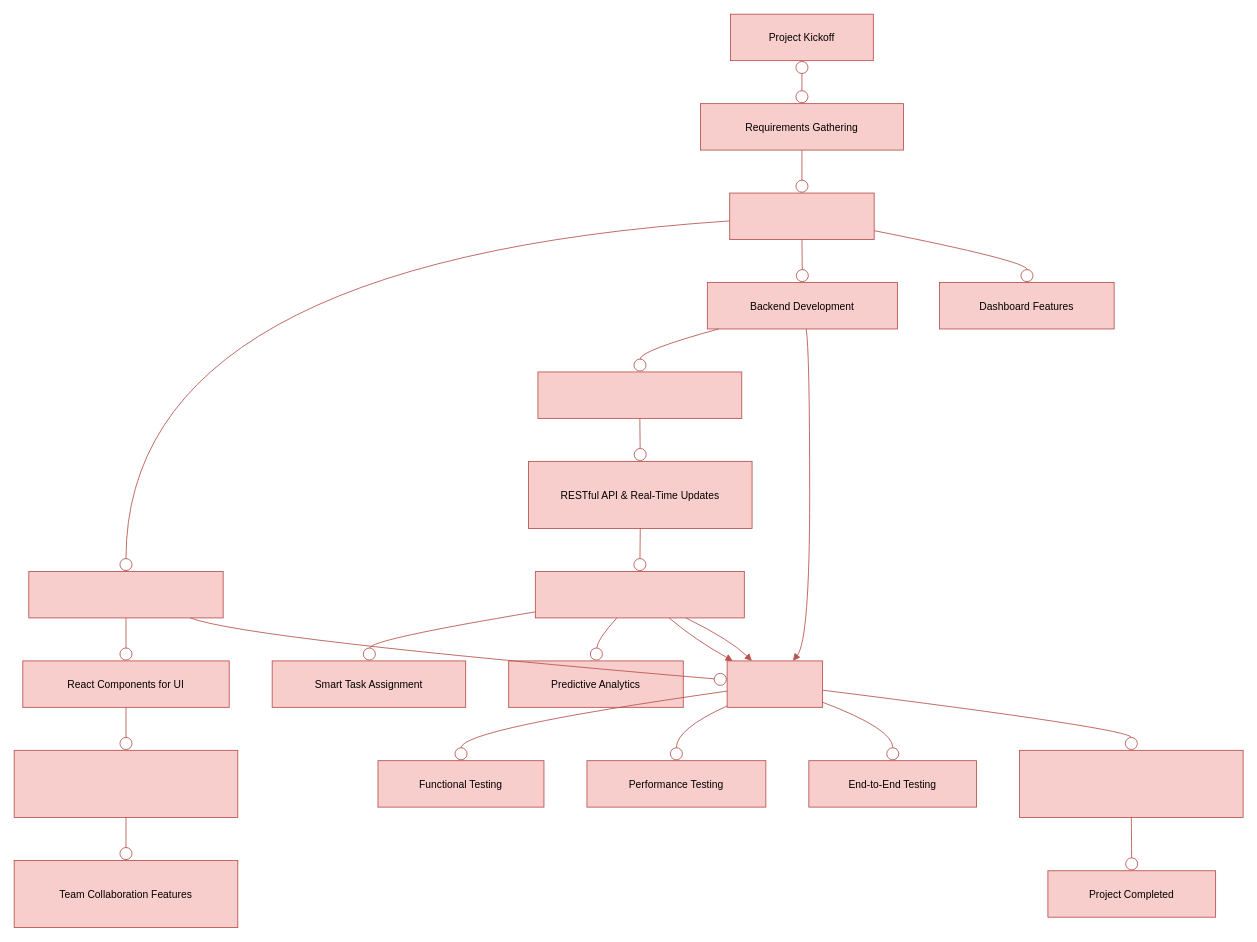
Image size: 1257x942. Some labels were removed from this diagram. Here are the shapes that lost their labels. From the top down, the centre of each, then its label:
At [801,216]: "Feature Design".
At [639,394]: "MongoDB Schema Design".
At [125,594]: "Frontend Development".
At [639,594]: "AI Features Development".
At [774,683]: "Testing".
At [125,783]: "Kanban Board & Collaboration Features".
At [1131,783]: "Documentation & Deployment".
